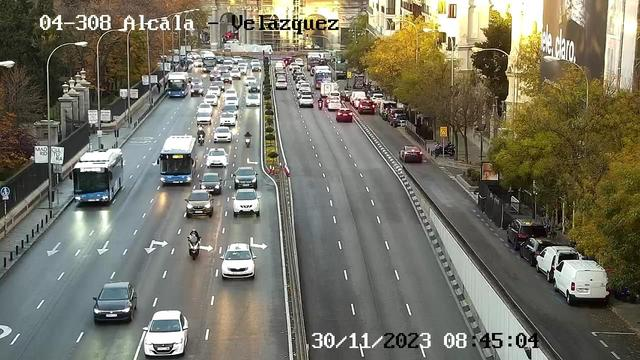bus: (69, 148, 123, 203), (157, 136, 198, 184), (168, 72, 189, 97), (314, 66, 332, 88)
car: (143, 310, 188, 357), (92, 281, 137, 321), (220, 243, 256, 279), (507, 218, 547, 250), (519, 238, 561, 266), (184, 190, 214, 217), (232, 189, 262, 216), (233, 167, 258, 189), (199, 172, 222, 193), (206, 148, 228, 167), (399, 145, 423, 162), (213, 127, 233, 142), (358, 100, 376, 115), (219, 112, 236, 126)
motorcycle: (432, 142, 456, 157), (187, 236, 201, 261), (197, 134, 205, 145), (245, 136, 251, 147), (318, 102, 323, 110)
truck: (553, 260, 609, 305), (536, 246, 583, 282)
